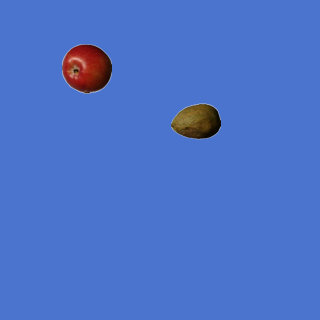Apple Braeburn: (61, 43, 111, 93)
Papaya: (170, 96, 220, 146)
